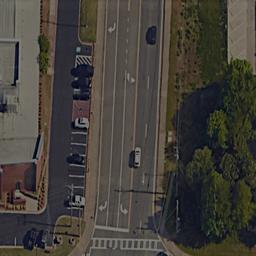Car: (70, 64, 93, 99), (19, 228, 52, 251), (64, 193, 85, 210), (132, 145, 143, 170), (145, 24, 158, 44), (71, 117, 91, 128), (69, 152, 87, 164)
Crosswalk: (88, 234, 165, 253)
Double Solid Yellow Line: (127, 1, 144, 229)
Left Turn Arrow: (125, 71, 136, 84), (119, 203, 130, 215)
Right Turn Arrow: (96, 198, 108, 213), (107, 19, 116, 34)
Solid White Line: (105, 1, 122, 230)
Stop Line: (94, 225, 129, 234)
White Dashed Line: (138, 70, 152, 231), (124, 1, 132, 67)
